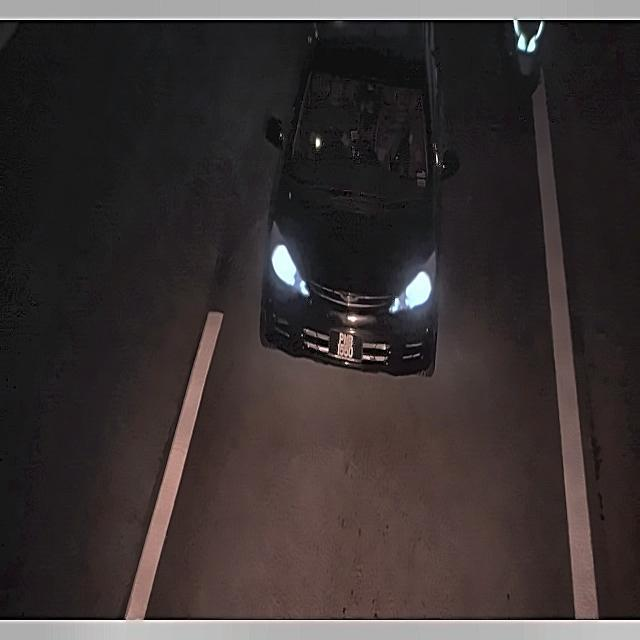car: (331, 324, 361, 365)
